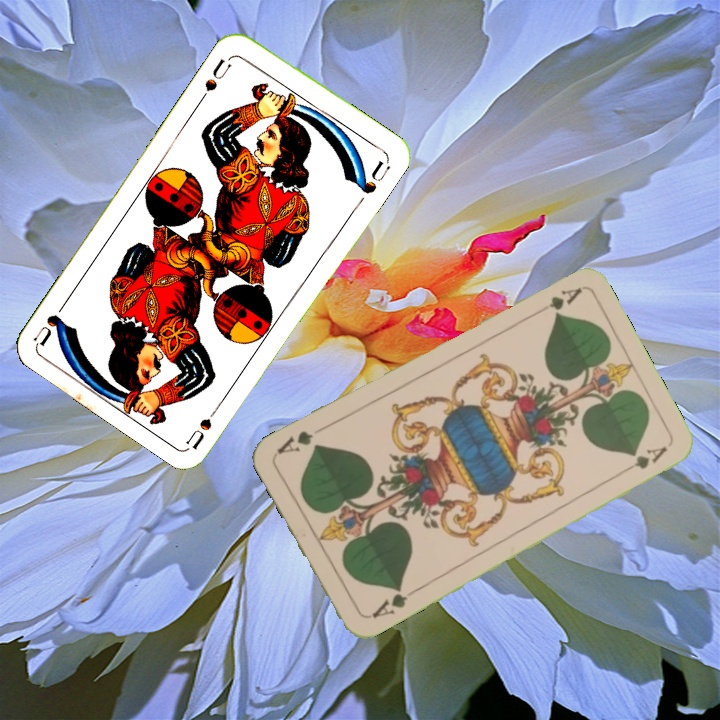GA: (364, 582, 418, 621), (545, 283, 584, 313)
SU: (183, 396, 226, 451), (196, 52, 236, 104)
